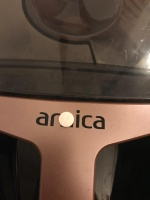Arveles: (58, 111, 75, 129)
